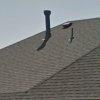Chimney: (35, 5, 65, 53)
